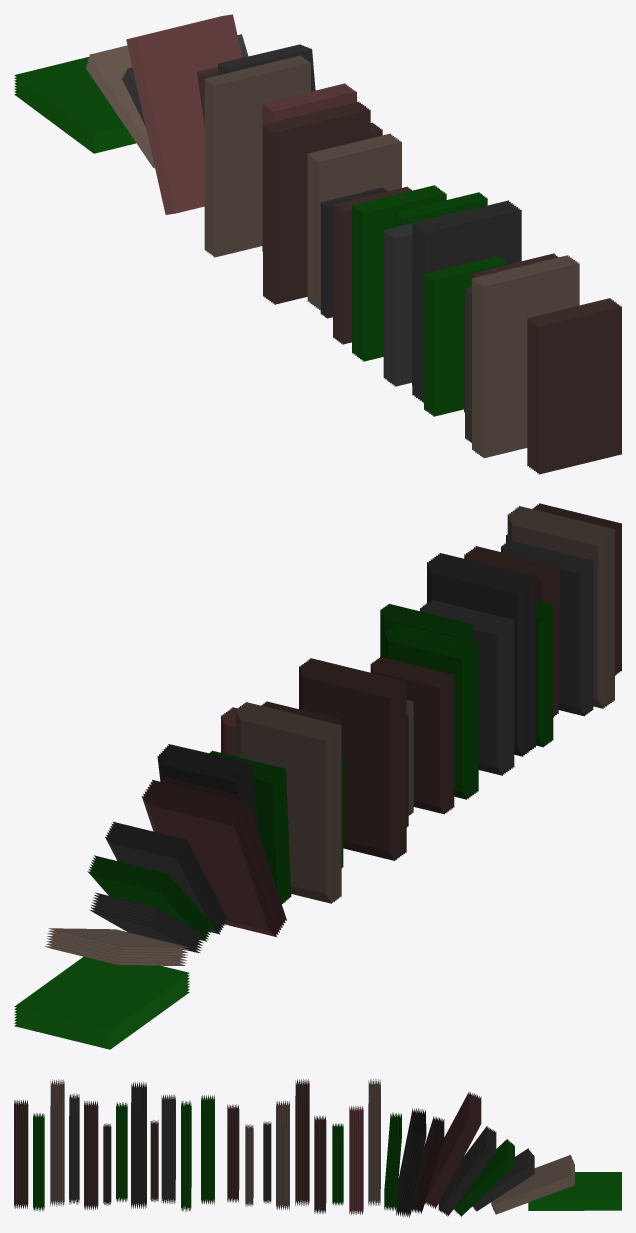
Rendered from Livres_1.fbx.
The picture shows the model from 3 angles, top to bottom: view 1: azimuth 30°, elevation 25°; view 2: azimuth 150°, elevation 25°; view 3: azimuth 270°, elevation 25°; orthographic projection. The views are drawn at different scales.
Visible parts, largest first — view 1: pCube908, pCube867, pCube873, pCube790, pCube727, pCube841, pCube840, pCube854, pCube702, pCube678, pCube700, pCube948 (+29 smaller); view 2: pCube728, pCube742, pCube916, pCube702, pCube803, pCube726, pCube909, pCube691, pCube709, pCube713, pCube772, pCube882 (+38 smaller); view 3: pCube702, pCube948, pCube867, pCube769, pCube920, pCube918, pCube803, pCube841, pCube672, pCube727, pCube873, pCube919 (+78 smaller).
Part boxes in pixels (x1=…): pCube908: x1=535, y1=304, x2=621, y2=474; pCube867: x1=133, y1=14, x2=242, y2=213; pCube873: x1=480, y1=261, x2=579, y2=458; pCube790: x1=211, y1=60, x2=310, y2=257; pCube727: x1=271, y1=107, x2=370, y2=304; pCube841: x1=421, y1=207, x2=521, y2=403; pCube840: x1=431, y1=260, x2=508, y2=416; pCube854: x1=315, y1=139, x2=401, y2=309; pCube702: x1=14, y1=57, x2=128, y2=139; pCube678: x1=360, y1=191, x2=446, y2=361; pCube700: x1=391, y1=231, x2=412, y2=386; pCube948: x1=88, y1=45, x2=151, y2=151; pCube728: x1=299, y1=664, x2=398, y2=860; pCube742: x1=236, y1=707, x2=334, y2=903; pCube916: x1=141, y1=791, x2=279, y2=936; pCube702: x1=14, y1=956, x2=189, y2=1035; pCube803: x1=427, y1=559, x2=526, y2=756; pCube726: x1=370, y1=661, x2=447, y2=814; pCube909: x1=501, y1=544, x2=587, y2=716; pCube691: x1=507, y1=512, x2=606, y2=708; pCube709: x1=420, y1=605, x2=505, y2=775; pCube713: x1=384, y1=629, x2=470, y2=799; pCube772: x1=105, y1=832, x2=222, y2=934; pCube882: x1=252, y1=768, x2=284, y2=904; pCube702: x1=528, y1=1172, x2=621, y2=1202; pCube948: x1=491, y1=1155, x2=571, y2=1207; pCube867: x1=425, y1=1091, x2=472, y2=1204; pCube769: x1=438, y1=1126, x2=489, y2=1212; pCube920: x1=453, y1=1139, x2=509, y2=1211; pCube918: x1=396, y1=1108, x2=416, y2=1216; pCube803: x1=141, y1=1082, x2=146, y2=1208; pCube841: x1=131, y1=1082, x2=136, y2=1208; pCube672: x1=136, y1=1082, x2=141, y2=1208; pCube727: x1=295, y1=1079, x2=300, y2=1205; pCube873: x1=50, y1=1079, x2=55, y2=1206; pCube919: x1=428, y1=1093, x2=477, y2=1207.
Size of the model in its own units: 13.83 by 16.62 by 89.85.
